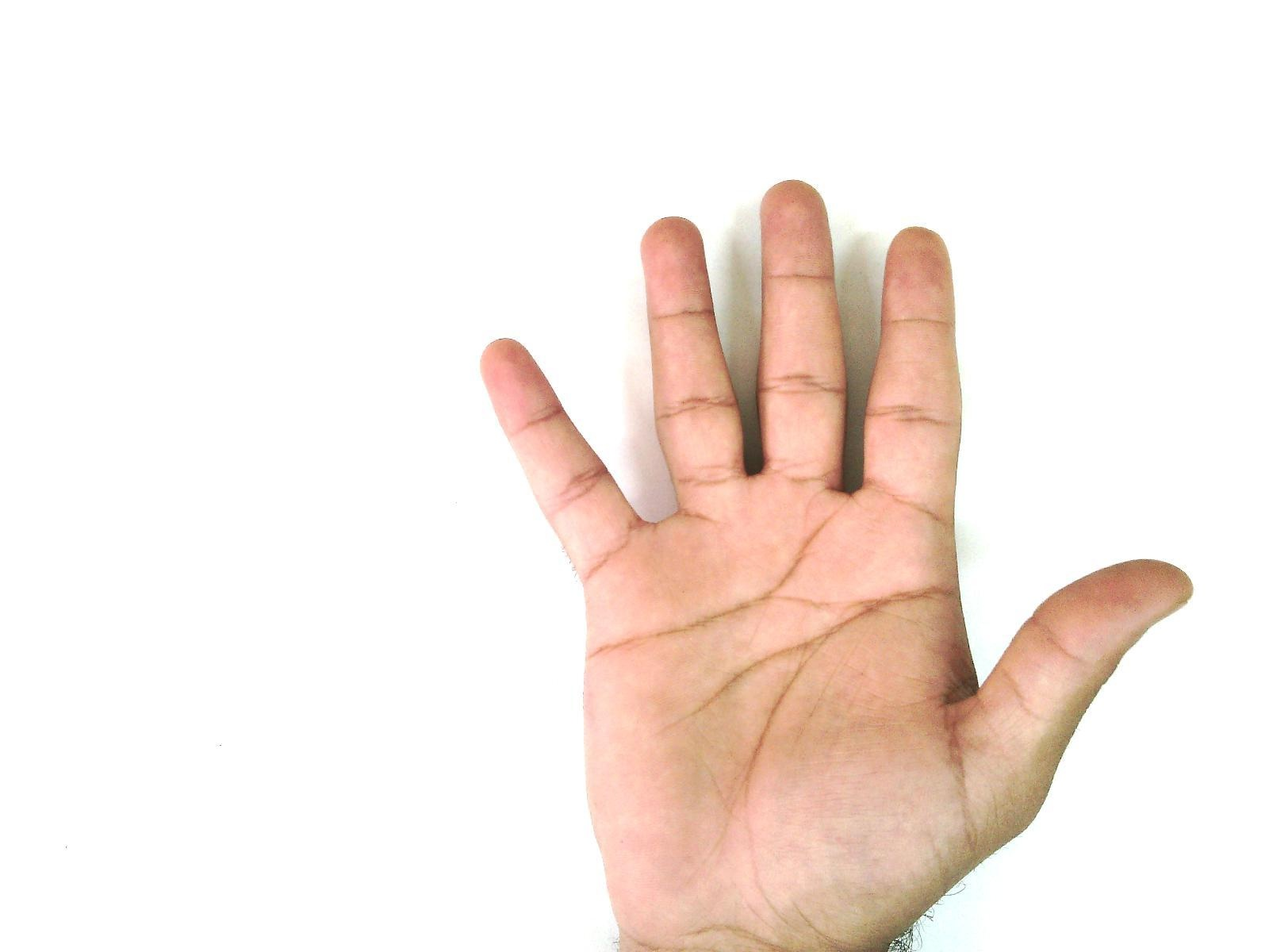open_palm: (477, 178, 1194, 951)
